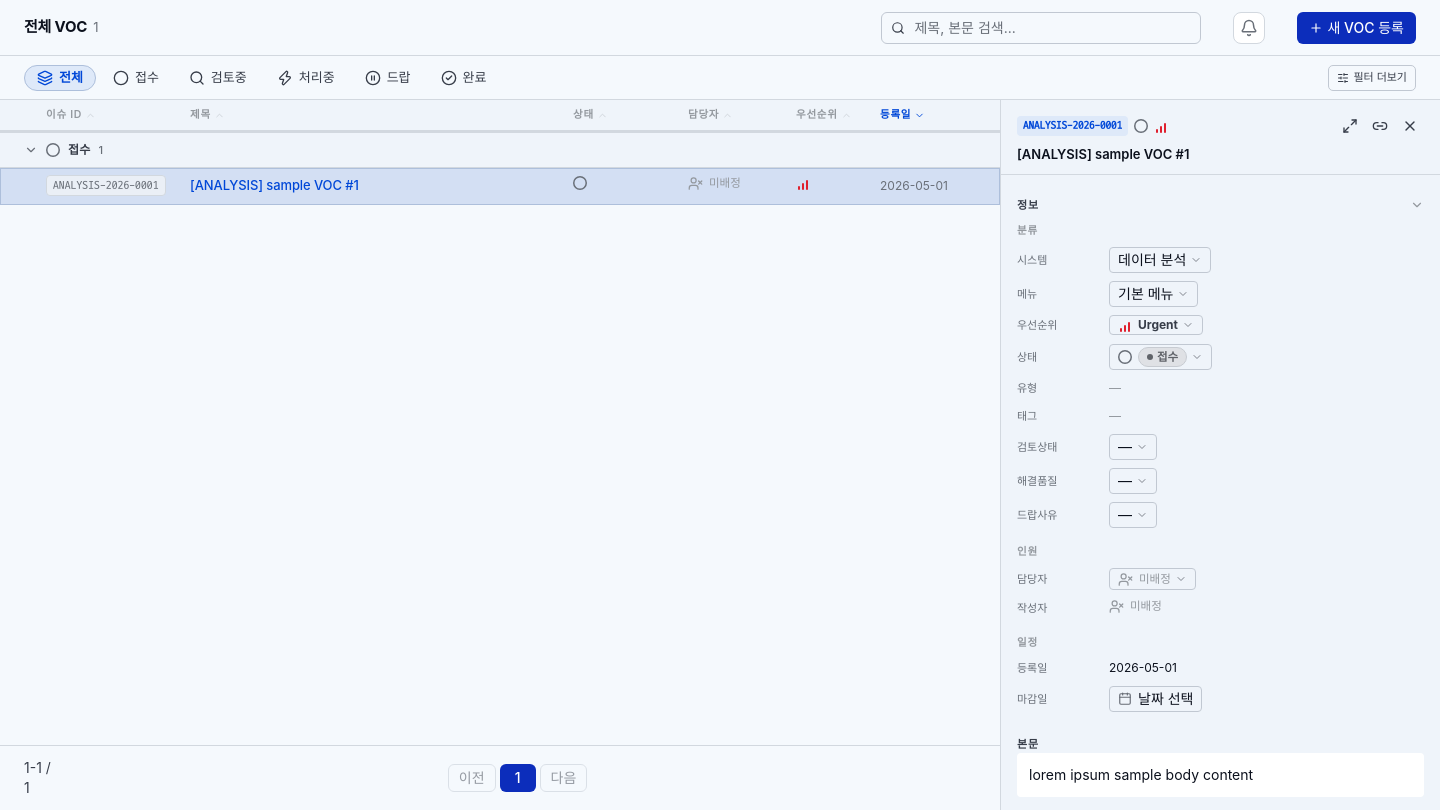
Test: VocListPage — Wave 1 RTL › F-T4c fullscreen 토글: 패널 fullscreen 시 리스트 영역 숨김
expect the element with test id "voc-drawer" is shown: met, box left=1001, top=100, right=1439, bottom=809
expect the element with test id "voc-table" is shown: met, box left=0, top=100, right=1000, bottom=205
// Click fullscreen toggle button (inside the panel header)
Click the button with test id "drawer-btn-fullscreen" at (1350, 126), box left=1336, top=112, right=1364, bottom=140
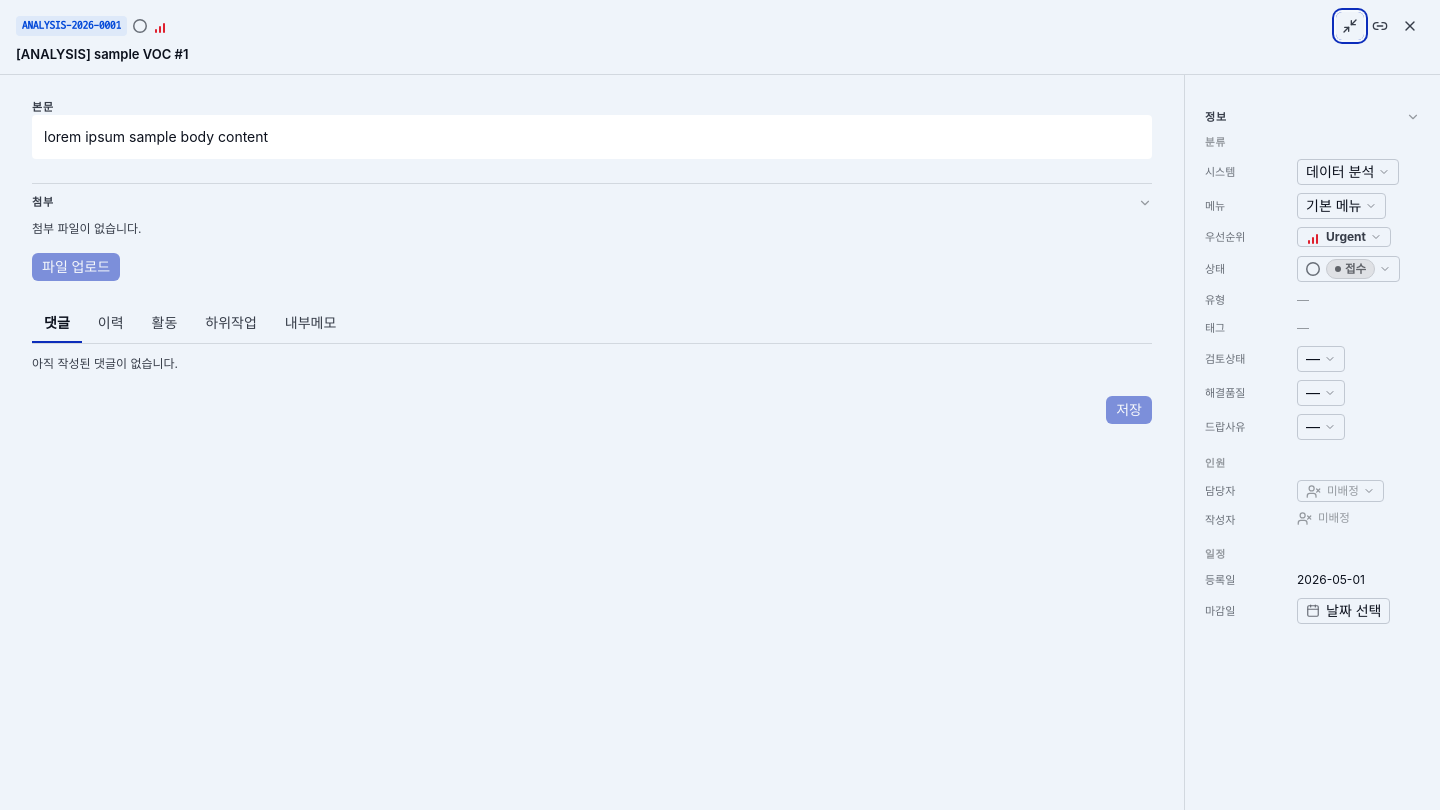
expect the element with test id "voc-table" is gone: met
// Toggle back
Click the button with test id "drawer-btn-fullscreen" at (1350, 26), box left=1336, top=12, right=1364, bottom=40
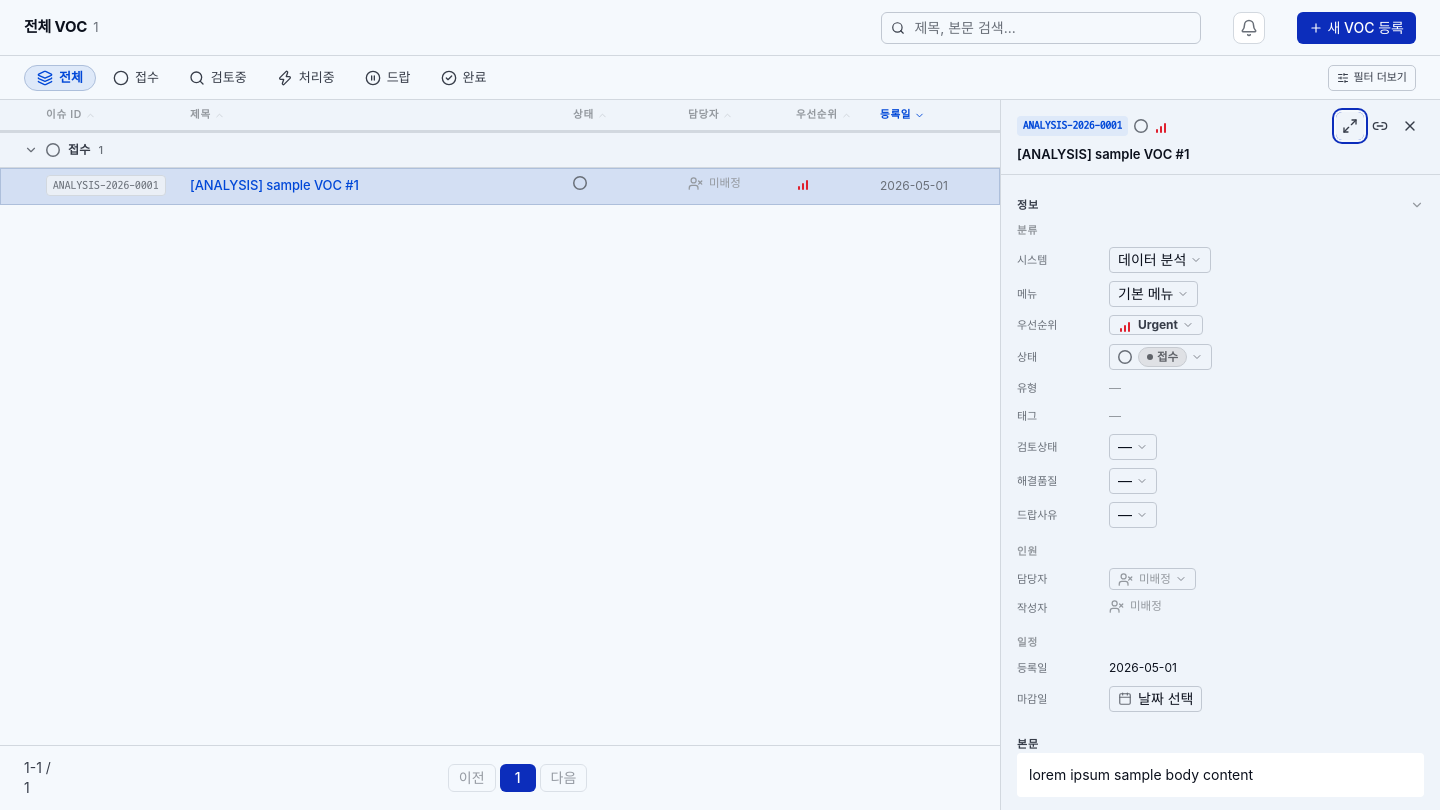
expect the element with test id "voc-table" is shown: met, box left=0, top=100, right=1000, bottom=205
